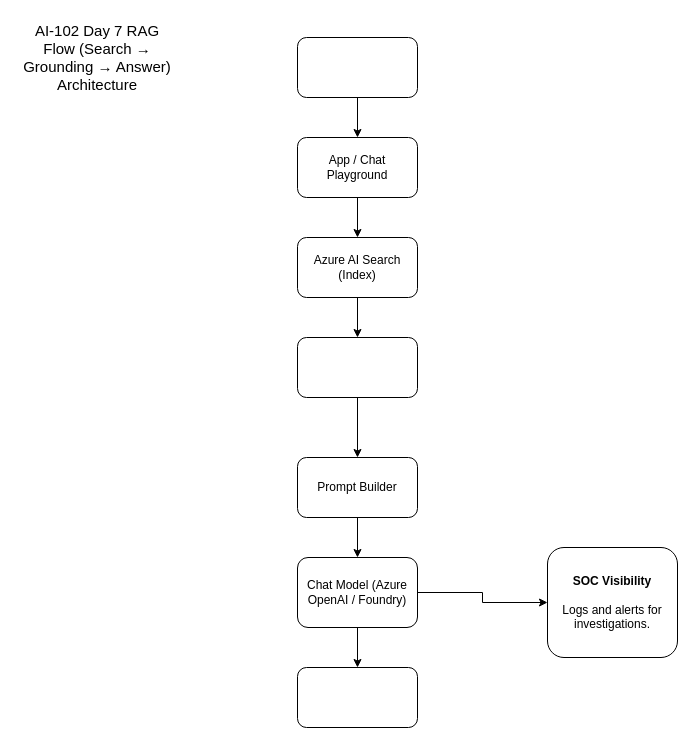
Some shapes in this 695 by 745 pixel diagram are drawn without their labels. The box of each missing label's shape, as (x1, y1, x2, y2) in pixels:
Answer + Citations: (296, 666, 418, 728)
Top Chunks (Context + Metadata): (296, 336, 418, 398)
User: (296, 36, 418, 98)
